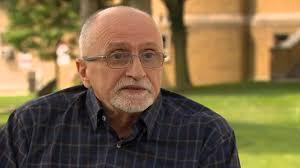normalEye: (101, 38, 161, 72)
normalMouth: (112, 81, 151, 96)
